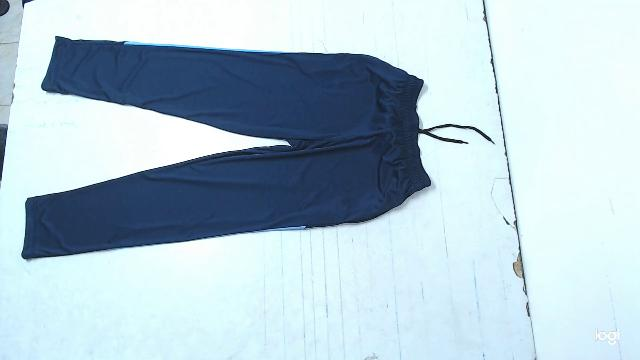new-garment: (22, 37, 490, 259)
